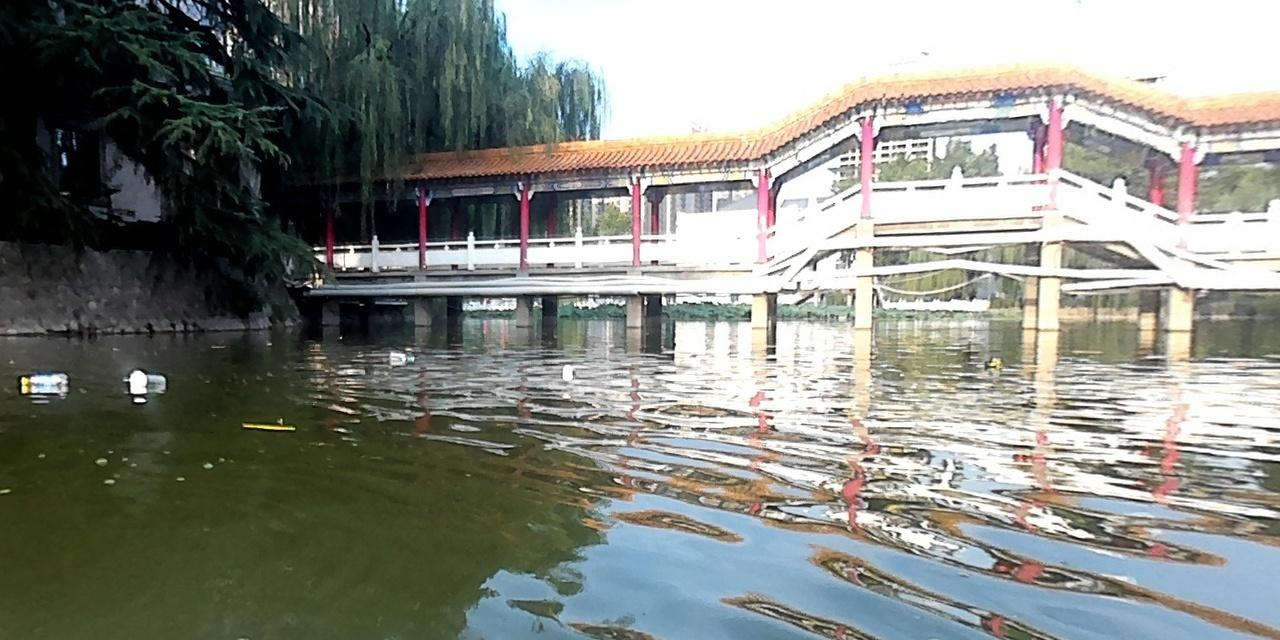bottle: (124, 366, 167, 391), (18, 369, 69, 387), (384, 349, 416, 365)
